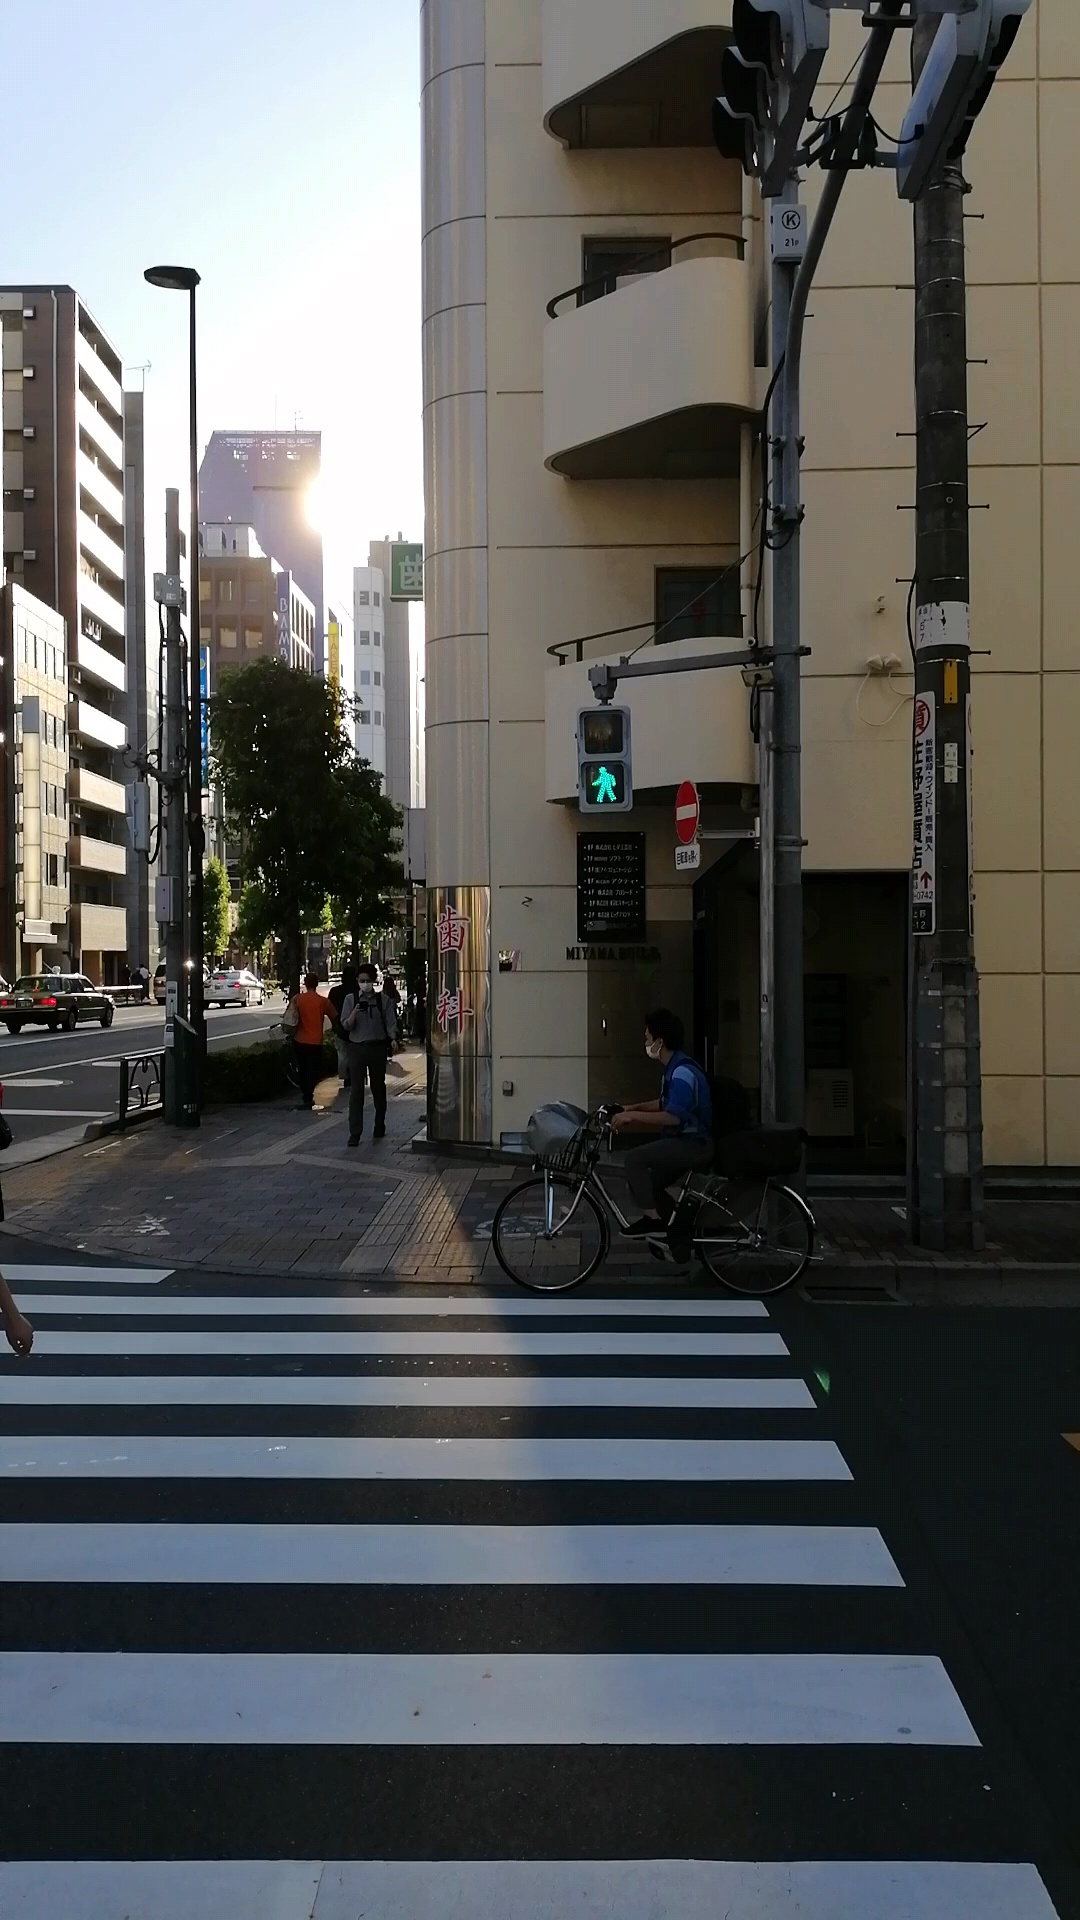green: (574, 705, 636, 818)
